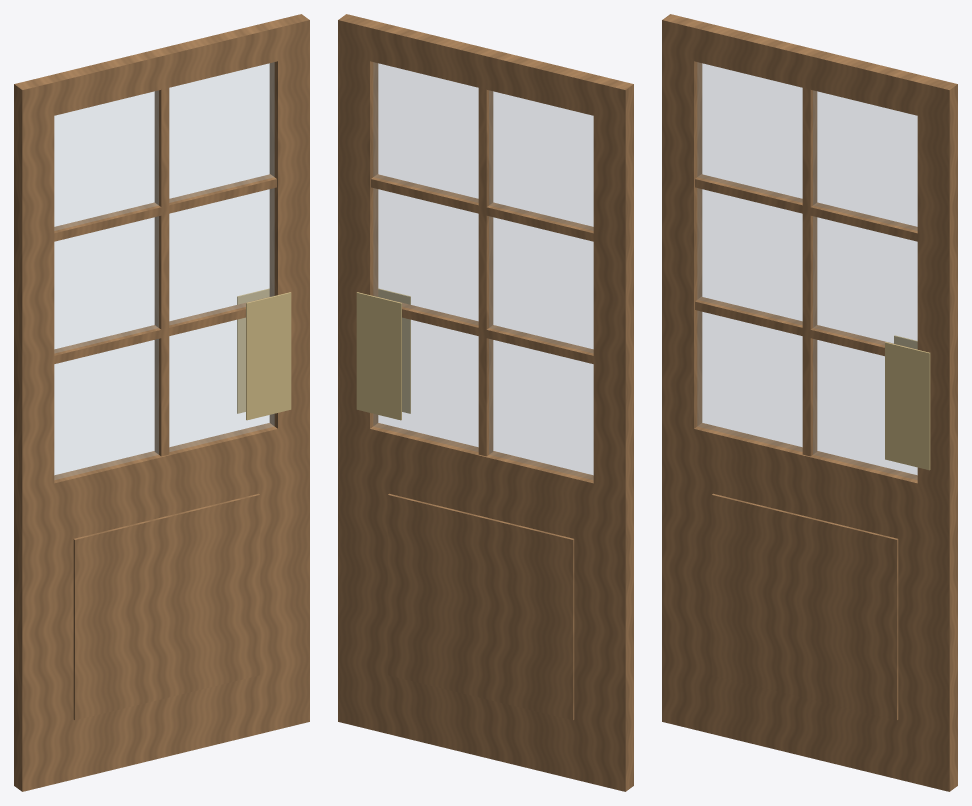
Rendered from mlo_door_swing_cafe.glb.
3 views of the same model, side by side, from view 1: azimuth 30°, elevation 25°; view 2: azimuth 150°, elevation 25°; view 3: azimuth 330°, elevation 25° (orthographic).
Visible parts, largest first — view 1: Door_Swing_Cafe; view 2: Door_Swing_Cafe; view 3: Door_Swing_Cafe.
Part boxes in pixels (x1=…): Door_Swing_Cafe: x1=14, y1=14, x2=309, y2=791; Door_Swing_Cafe: x1=338, y1=14, x2=633, y2=791; Door_Swing_Cafe: x1=662, y1=14, x2=957, y2=791.
Bounding box in the file's own units: 0.9 × 2.1 × 0.061.
Materials: 3 (1 with a texture image).
